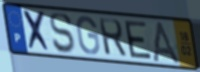A: (150, 20, 183, 67)
E: (122, 20, 154, 61)
G: (75, 15, 102, 57)
R: (97, 17, 129, 59)
S: (48, 12, 76, 55)
X: (21, 8, 54, 54)
